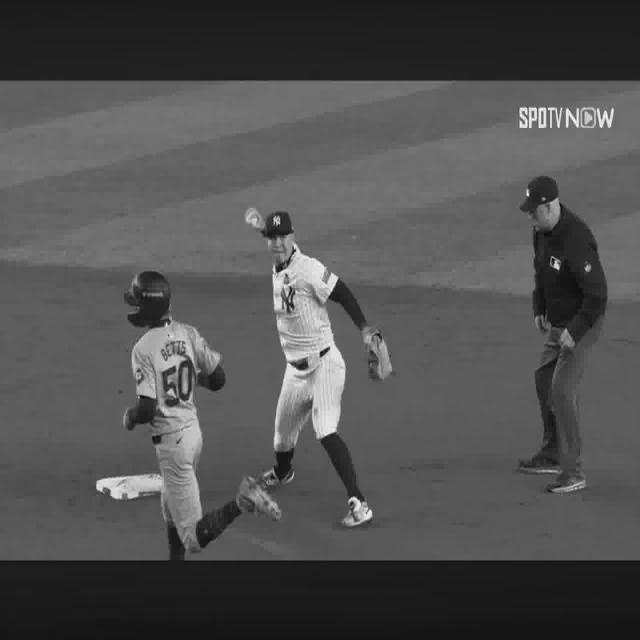base: (96, 473, 162, 500)
baseball: (245, 212, 256, 226)
baseball_glove: (362, 330, 392, 380)
shoe: (236, 477, 281, 520), (341, 497, 372, 527), (519, 453, 561, 473), (548, 472, 586, 493), (264, 468, 294, 486)
